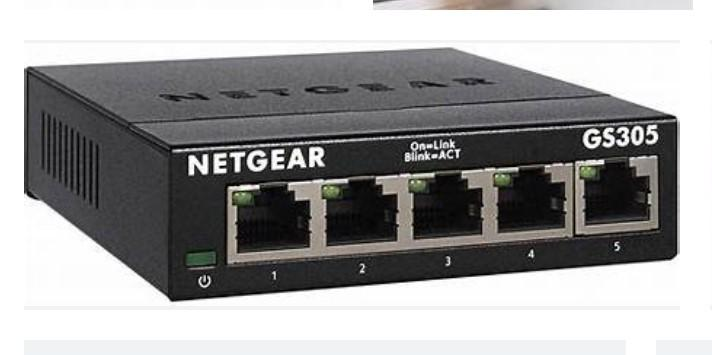NetworkSwitch: (23, 48, 681, 302)
